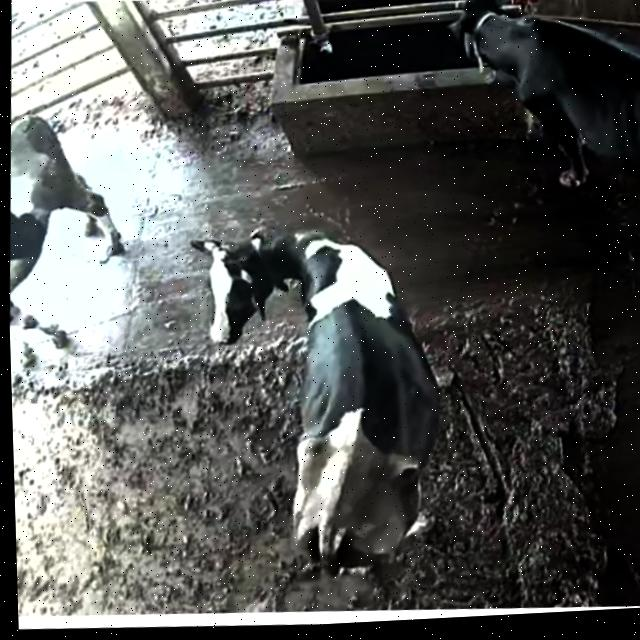drink: (415, 0, 574, 110)
